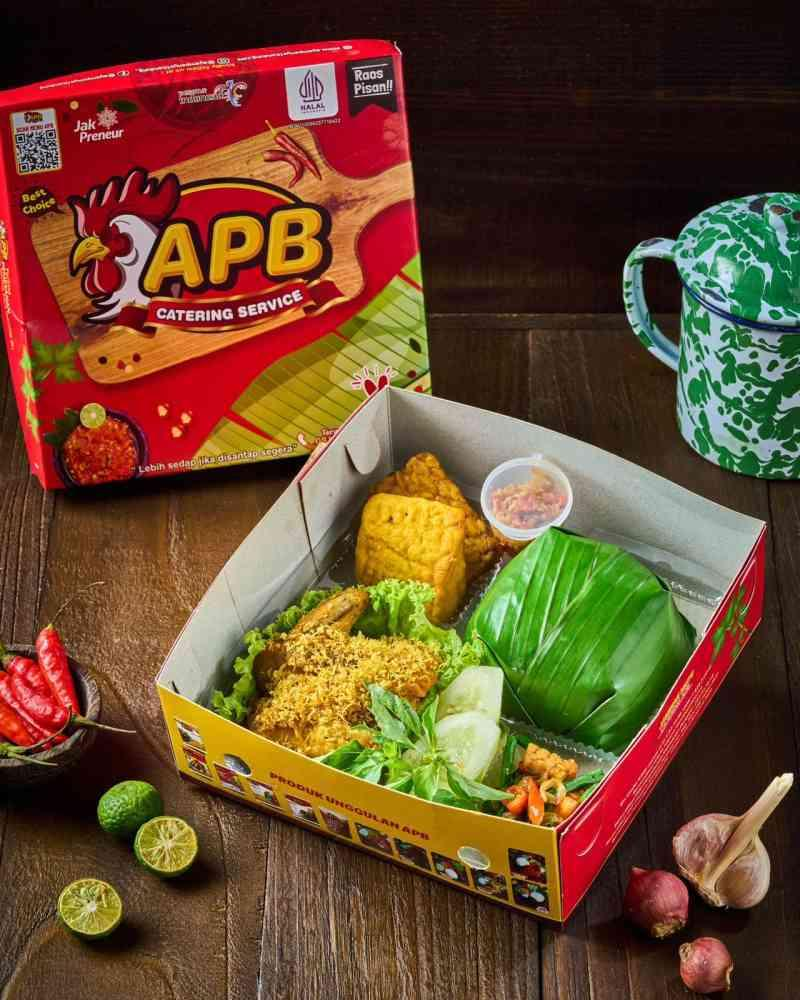buah_sayur_lainnya: (400, 714, 497, 785)
daging: (276, 647, 352, 720)
kacang_legume: (378, 491, 458, 582)
